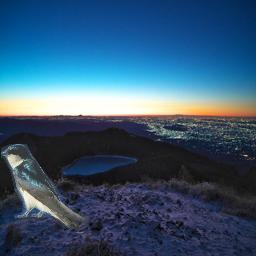Swallow: (1, 144, 90, 230)
